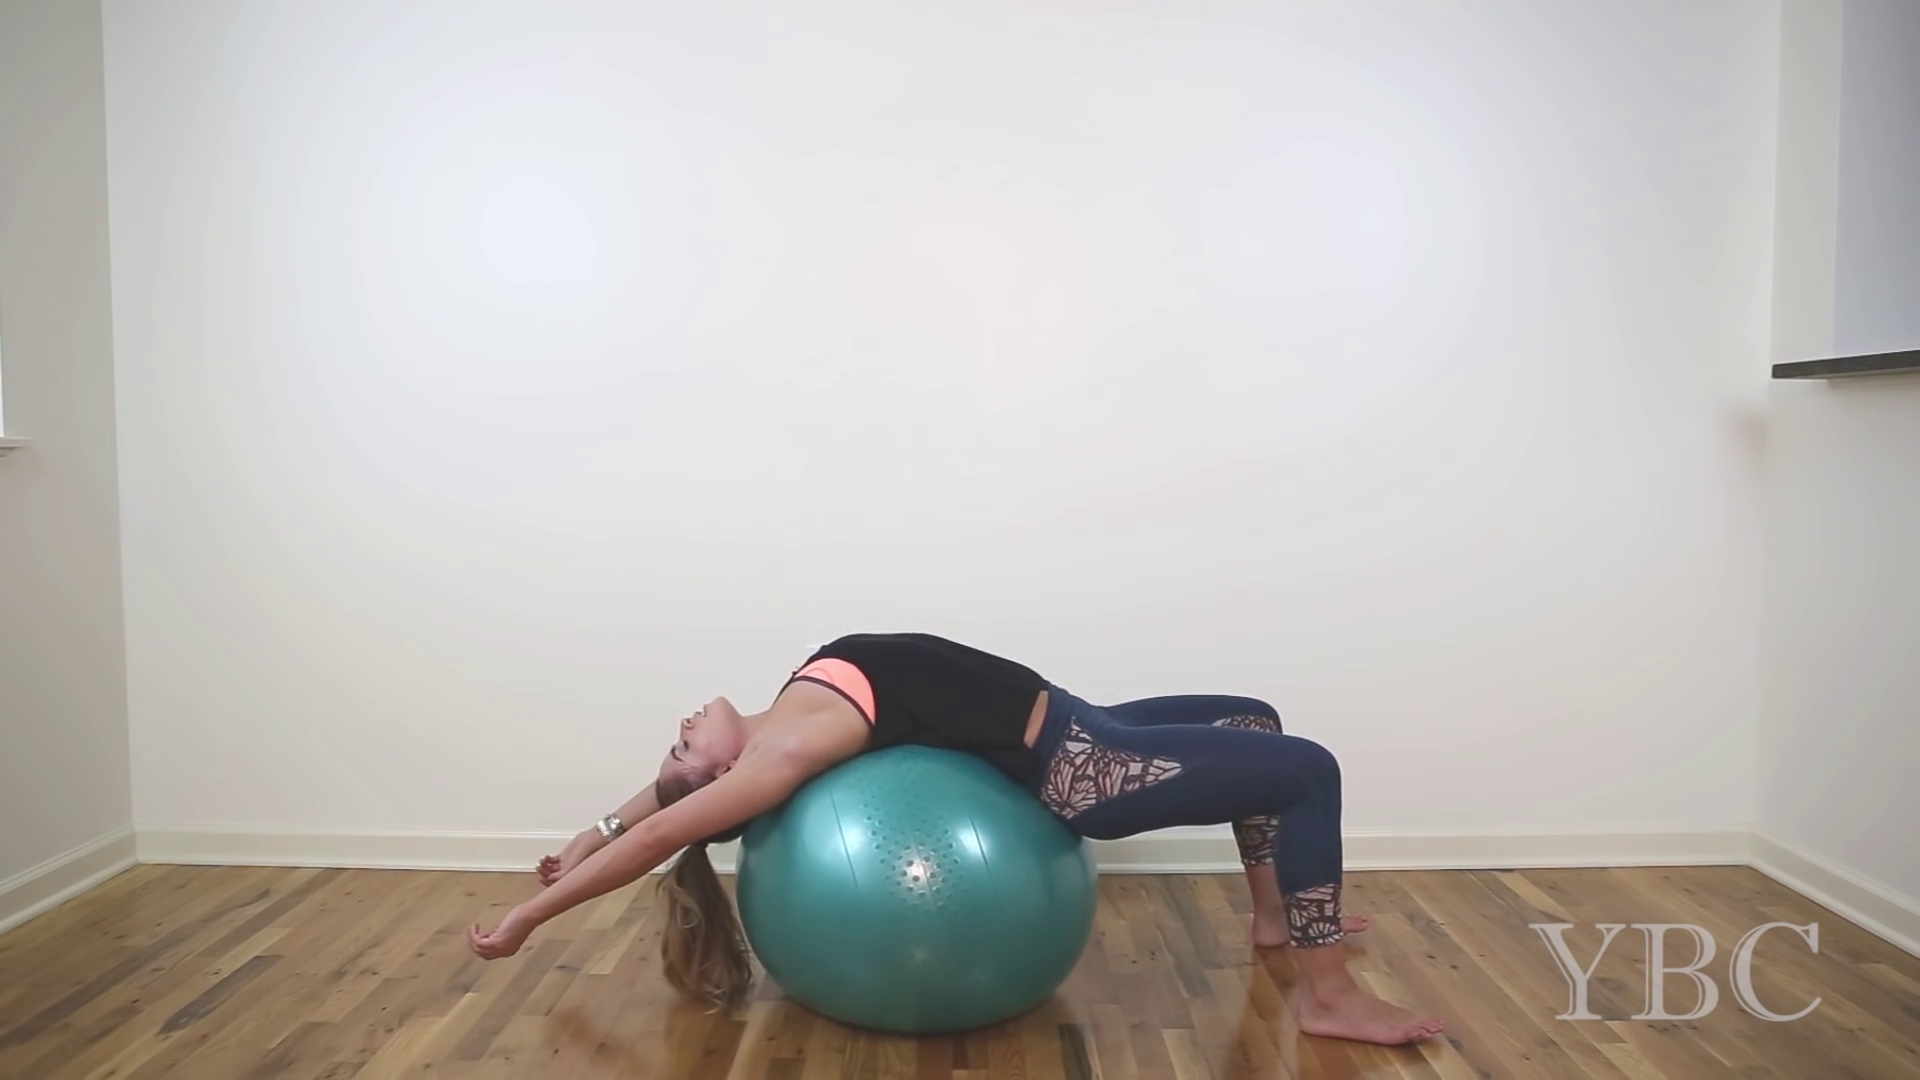yogaball: (731, 732, 1108, 1051)
